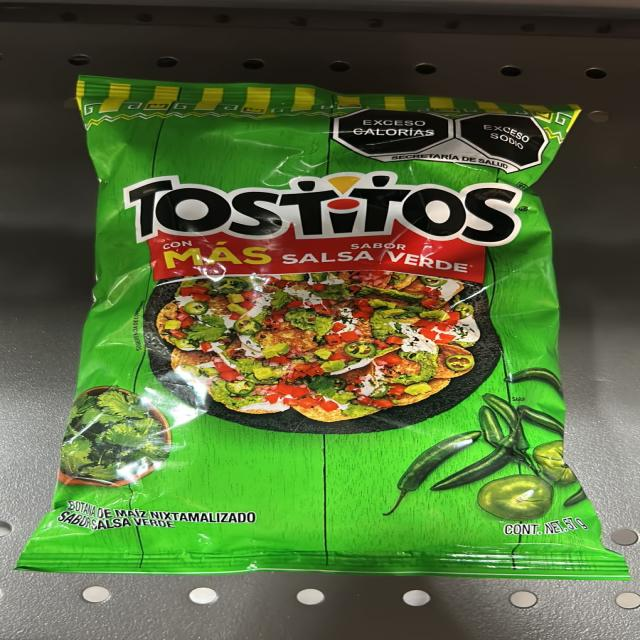tostitos: (100, 98, 546, 557)
